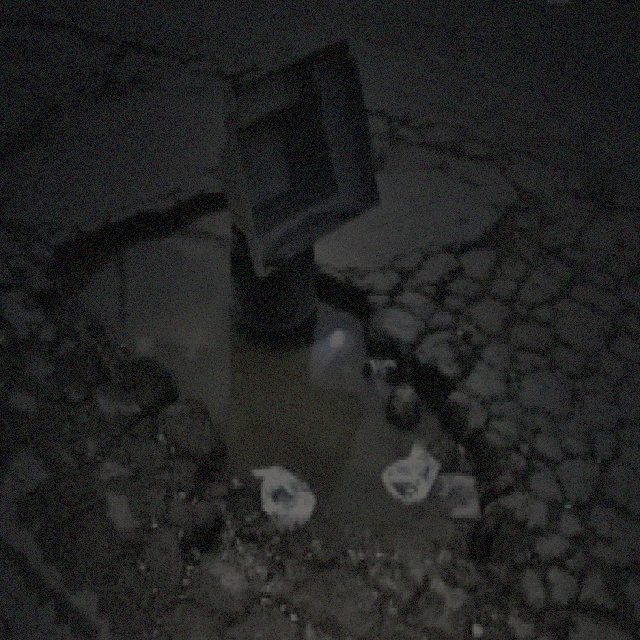pothole: (45, 158, 483, 569)
